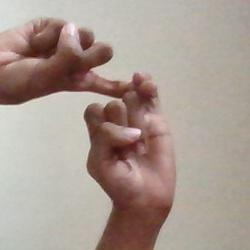S: (1, 0, 220, 250)
